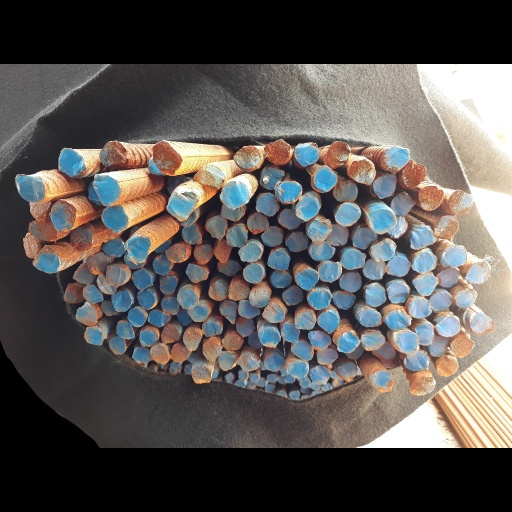dipstick: (153, 141, 183, 175), (168, 190, 198, 221), (14, 174, 45, 203), (94, 174, 121, 206), (50, 199, 76, 231), (32, 245, 60, 274), (58, 147, 85, 176), (221, 181, 250, 208), (367, 208, 397, 234), (101, 206, 129, 233), (194, 165, 224, 189), (100, 140, 127, 166), (126, 235, 151, 262), (349, 158, 374, 184), (383, 147, 409, 172), (233, 145, 260, 169), (403, 159, 425, 188), (419, 185, 443, 210), (265, 141, 291, 164), (313, 165, 336, 191), (373, 174, 397, 198), (410, 226, 435, 249), (29, 220, 57, 240), (204, 215, 227, 239), (308, 218, 331, 242), (392, 192, 416, 215), (448, 191, 471, 215), (385, 309, 411, 330), (106, 263, 129, 286), (86, 252, 110, 274), (334, 180, 358, 202), (336, 203, 360, 225), (435, 214, 457, 238), (443, 245, 467, 267), (412, 251, 436, 273), (276, 181, 301, 202), (393, 331, 418, 352), (69, 228, 91, 251), (295, 267, 318, 289), (295, 142, 318, 164), (467, 261, 490, 283), (297, 195, 318, 219), (371, 239, 395, 260), (387, 256, 411, 277), (112, 287, 132, 312), (76, 303, 97, 326), (337, 331, 360, 352), (328, 142, 349, 165), (365, 284, 386, 307), (414, 274, 437, 295), (471, 313, 494, 334), (102, 237, 126, 257), (332, 290, 356, 310), (430, 292, 454, 312), (436, 316, 460, 336), (279, 209, 302, 229), (341, 250, 365, 269), (22, 233, 40, 258), (309, 242, 334, 260), (74, 262, 95, 283), (318, 311, 339, 332), (257, 193, 278, 214), (387, 281, 408, 302), (64, 283, 86, 303), (309, 364, 331, 384), (239, 242, 261, 262), (268, 249, 290, 269), (364, 259, 386, 279), (186, 263, 209, 282), (237, 300, 260, 319), (408, 298, 431, 317), (450, 338, 473, 357), (203, 337, 221, 361), (308, 331, 332, 349), (358, 308, 382, 326), (404, 354, 429, 371), (360, 332, 385, 349), (131, 270, 152, 290), (181, 224, 202, 244), (193, 244, 214, 264), (247, 212, 268, 232), (340, 272, 361, 292), (177, 289, 199, 308), (291, 341, 313, 360), (286, 232, 308, 251), (309, 290, 331, 309), (319, 262, 341, 281), (437, 268, 459, 287), (455, 289, 477, 308), (373, 341, 395, 360), (214, 239, 232, 262), (415, 322, 433, 345), (411, 377, 434, 395), (83, 284, 103, 304), (150, 344, 170, 364), (170, 343, 190, 363), (153, 254, 173, 274), (243, 263, 263, 283), (329, 226, 349, 246), (352, 224, 368, 249), (183, 330, 202, 351), (235, 316, 254, 337), (259, 328, 280, 347), (226, 227, 247, 246), (261, 169, 282, 188), (262, 304, 284, 322), (390, 216, 408, 238), (217, 259, 240, 276), (221, 300, 237, 324), (97, 274, 116, 294), (84, 326, 103, 346), (128, 307, 147, 327), (191, 365, 211, 384), (160, 324, 180, 343), (209, 280, 228, 300), (237, 352, 257, 371), (295, 310, 315, 329), (283, 286, 303, 305), (430, 336, 449, 356), (374, 372, 393, 392), (166, 245, 187, 263), (228, 282, 249, 300), (222, 332, 243, 350), (221, 205, 244, 221), (137, 290, 155, 310), (139, 328, 159, 346), (338, 362, 358, 380), (271, 269, 291, 287), (263, 226, 281, 246), (264, 354, 285, 371), (282, 321, 299, 342), (436, 357, 457, 374), (116, 321, 135, 339), (132, 347, 152, 364), (188, 305, 208, 322), (219, 351, 236, 371), (287, 361, 307, 378), (29, 203, 50, 219), (202, 321, 223, 337), (100, 299, 119, 316), (249, 290, 268, 307), (148, 310, 169, 325), (317, 349, 338, 364), (109, 337, 126, 355), (161, 297, 179, 314), (160, 276, 177, 294), (248, 331, 263, 349), (178, 311, 192, 324)
